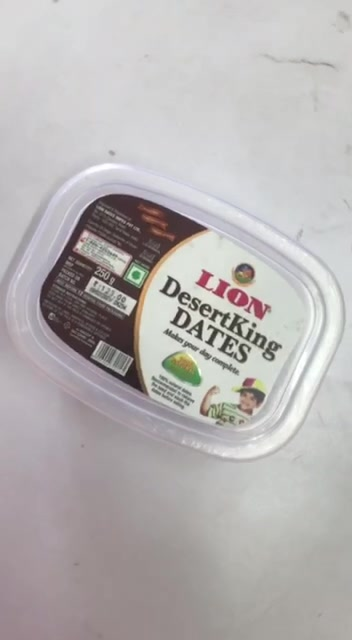Lion dates: (4, 166, 346, 459)
